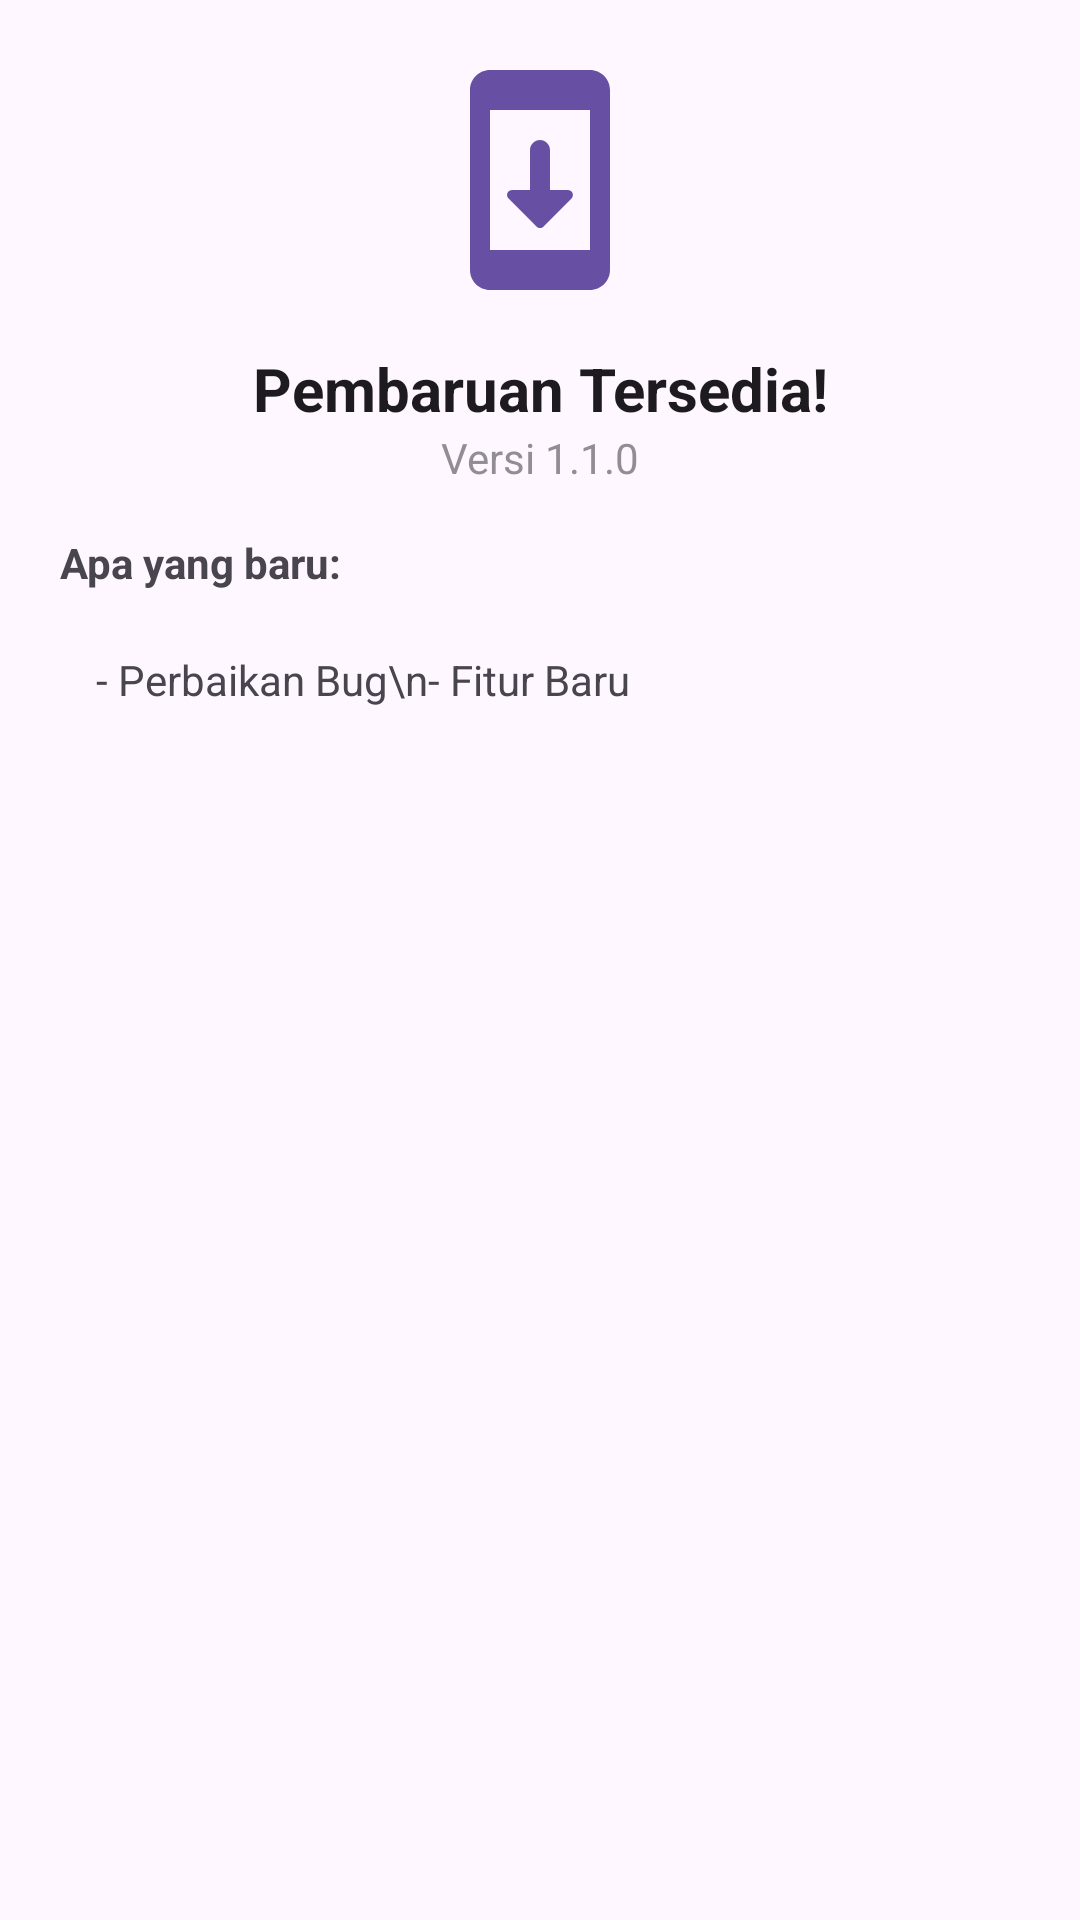

Where to tap for icons on this 1080*1920 app screen, as point (x, y):
update: point (540, 180)
